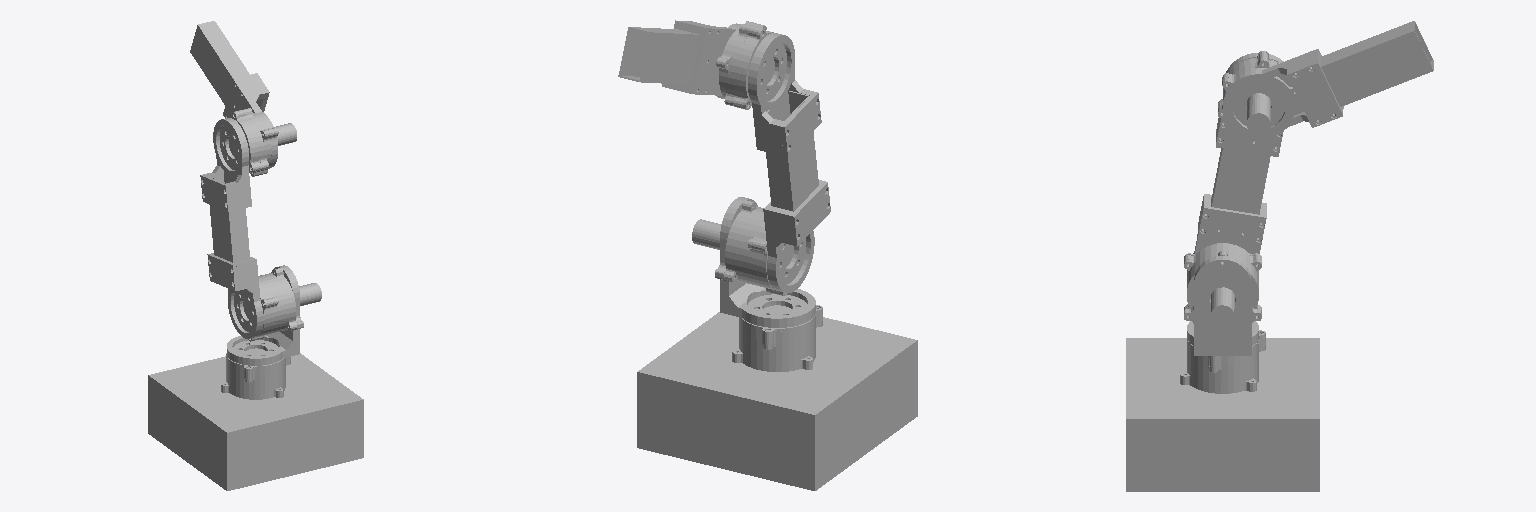
The robot description file, URDF, robot "3ARA_URDF":
<?xml version="1.0" encoding="utf-8"?>
<!-- This URDF was automatically created by SolidWorks to URDF Exporter! Originally created by [author] ([email redacted]) 
     Commit Version: 1.6.0-1-g15f4949  Build Version: 1.6.7594.29634
     For more information, please see http://wiki.ros.org/sw_urdf_exporter -->
<robot
  name="3ARA_URDF">
  <link
    name="Link_1">
    <inertial>
      <origin
        xyz="2.44795514692253E-08 -8.24774534780026E-09 0.0477135067873397"
        rpy="0 0 0" />
      <mass
        value="1.44873413604152" />
      <inertia
        ixx="0.0034941751811897"
        ixy="1.91632807696372E-08"
        ixz="-1.00886663918081E-15"
        iyy="0.00288752317529553"
        iyz="-9.05789203362275E-16"
        izz="0.00569547108115791" />
    </inertial>
    <visual>
      <origin
        xyz="0 0 0"
        rpy="0 0 0" />
      <geometry>
        <mesh
          filename="package://3ARA_URDF/meshes/Link_1.STL" />
      </geometry>
      <material
        name="">
        <color
          rgba="0.752941176470588 0.752941176470588 0.752941176470588 1" />
      </material>
    </visual>
    <collision>
      <origin
        xyz="0 0 0"
        rpy="0 0 0" />
      <geometry>
        <mesh
          filename="package://3ARA_URDF/meshes/Link_1.STL" />
      </geometry>
    </collision>
  </link>
  <link
    name="Link_2">
    <inertial>
      <origin
        xyz="0.0228577197910093 0.060077150216546 -1.14421772196005E-07"
        rpy="0 0 0" />
      <mass
        value="0.262488506991563" />
      <inertia
        ixx="0.000233584069352606"
        ixy="-3.48047684676597E-05"
        ixz="-1.25742178340882E-11"
        iyy="0.000140530049442721"
        iyz="2.91717070063304E-08"
        izz="0.000204832416324175" />
    </inertial>
    <visual>
      <origin
        xyz="0 0 0"
        rpy="0 0 0" />
      <geometry>
        <mesh
          filename="package://3ARA_URDF/meshes/Link_2.STL" />
      </geometry>
      <material
        name="">
        <color
          rgba="0.752941176470588 0.752941176470588 0.752941176470588 1" />
      </material>
    </visual>
    <collision>
      <origin
        xyz="0 0 0"
        rpy="0 0 0" />
      <geometry>
        <mesh
          filename="package://3ARA_URDF/meshes/Link_2.STL" />
      </geometry>
    </collision>
  </link>
  <joint
    name="Joint_1"
    type="continuous">
    <origin
      xyz="0 0 0.12396"
      rpy="1.5708 0 -0.0053672" />
    <parent
      link="Link_1" />
    <child
      link="Link_2" />
    <axis
      xyz="0 1 0" />
  </joint>
  <link
    name="Link_3">
    <inertial>
      <origin
        xyz="-0.1075 0.0130012325105254 0.000202602268383922"
        rpy="0 0 0" />
      <mass
        value="0.15616284743225" />
      <inertia
        ixx="8.43993359636958E-05"
        ixy="-1.68083100470775E-21"
        ixz="-3.93384136922637E-07"
        iyy="0.000227413987282581"
        iyz="-1.31290106824417E-20"
        izz="0.000160200698471858" />
    </inertial>
    <visual>
      <origin
        xyz="0 0 0"
        rpy="0 0 0" />
      <geometry>
        <mesh
          filename="package://3ARA_URDF/meshes/Link_3.STL" />
      </geometry>
      <material
        name="">
        <color
          rgba="0.752941176470588 0.752941176470588 0.752941176470588 1" />
      </material>
    </visual>
    <collision>
      <origin
        xyz="0 0 0"
        rpy="0 0 0" />
      <geometry>
        <mesh
          filename="package://3ARA_URDF/meshes/Link_3.STL" />
      </geometry>
    </collision>
  </link>
  <joint
    name="Joint_2"
    type="continuous">
    <origin
      xyz="-0.0093352 0.07054 0"
      rpy="3.1416 -0.17213 -1.5708" />
    <parent
      link="Link_2" />
    <child
      link="Link_3" />
    <axis
      xyz="0 1 0" />
  </joint>
  <link
    name="Link_4">
    <inertial>
      <origin
        xyz="-3.40515714934431E-05 0.0319540564170174 -0.0234998419205893"
        rpy="0 0 0" />
      <mass
        value="0.240711599816444" />
      <inertia
        ixx="0.000174404040691833"
        ixy="-1.28919759236908E-15"
        ixz="1.27966508854057E-08"
        iyy="0.00025121707846864"
        iyz="5.28908131412283E-06"
        izz="0.000102817624075162" />
    </inertial>
    <visual>
      <origin
        xyz="0 0 0"
        rpy="0 0 0" />
      <geometry>
        <mesh
          filename="package://3ARA_URDF/meshes/Link_4.STL" />
      </geometry>
      <material
        name="">
        <color
          rgba="0.752941176470588 0.752941176470588 0.752941176470588 1" />
      </material>
    </visual>
    <collision>
      <origin
        xyz="0 0 0"
        rpy="0 0 0" />
      <geometry>
        <mesh
          filename="package://3ARA_URDF/meshes/Link_4.STL" />
      </geometry>
    </collision>
  </link>
  <joint
    name="Joint_3"
    type="continuous">
    <origin
      xyz="-0.215 0 0.0003"
      rpy="3.1416 -0.57863 0" />
    <parent
      link="Link_3" />
    <child
      link="Link_4" />
    <axis
      xyz="0 1 0" />
  </joint>
</robot>

--- Facts derived from the render (not from the file) ---
Views: 3 orthographic renders of the robot side by side, from view 1: azimuth 30°, elevation 25°; view 2: azimuth 150°, elevation 25°; view 3: azimuth 270°, elevation 25°.
Robot: 3ARA_URDF — 4 links, 3 joints (3 continuous); root link Link_1; default pose: all joints at 0.
Links seen in each view (by area): view 1: Link_1, Link_3, Link_4, Link_2; view 2: Link_1, Link_3, Link_4, Link_2; view 3: Link_1, Link_4, Link_2, Link_3.
Boxes of the visible links, bbox=[...] form: Link_1: bbox=[148, 348, 363, 490]; Link_3: bbox=[200, 118, 263, 338]; Link_4: bbox=[190, 21, 296, 176]; Link_2: bbox=[227, 265, 321, 365]; Link_1: bbox=[637, 305, 917, 490]; Link_3: bbox=[748, 33, 830, 292]; Link_4: bbox=[618, 20, 774, 109]; Link_2: bbox=[692, 197, 815, 327]; Link_1: bbox=[1126, 330, 1319, 491]; Link_4: bbox=[1218, 21, 1433, 146]; Link_2: bbox=[1184, 243, 1261, 355]; Link_3: bbox=[1193, 53, 1283, 253].
Bounding box of the posed robot: 0.2 × 0.3175 × 0.503 m (x, y, z).
Meshes: 4 distinct files referenced, 4 mesh visuals loaded (4 binary STL).